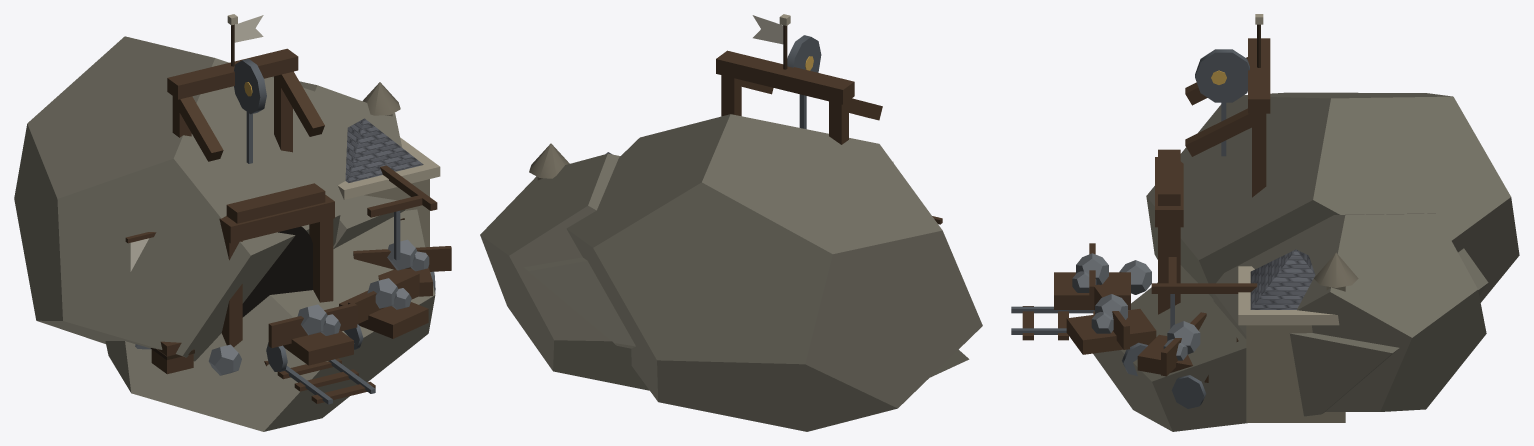
The model's file is mine-L3.glb.
The picture shows the model from 3 angles, left to right: view 1: azimuth 30°, elevation 25°; view 2: azimuth 150°, elevation 25°; view 3: azimuth 270°, elevation 25°; orthographic projection. The views are drawn at different scales.
Parts seen in each view (by area): view 1: building-mine-L3; view 2: building-mine-L3; view 3: building-mine-L3.
Boxes of the visible parts, box(x1,y1,x2,y2) form: building-mine-L3: box(14, 14, 451, 431); building-mine-L3: box(480, 14, 982, 431); building-mine-L3: box(1011, 14, 1519, 431).
Bounding box in the file's own units: 2.97 × 2.61 × 3.17.
Materials: 12 (1 with a texture image).
